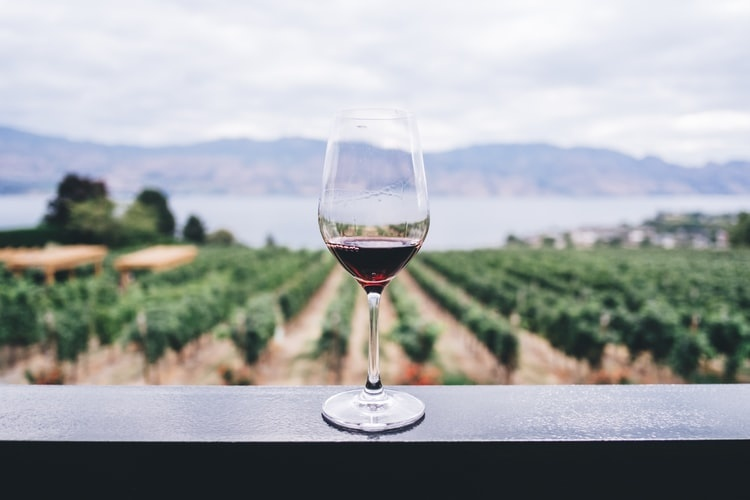whiskey: (321, 91, 430, 422)
